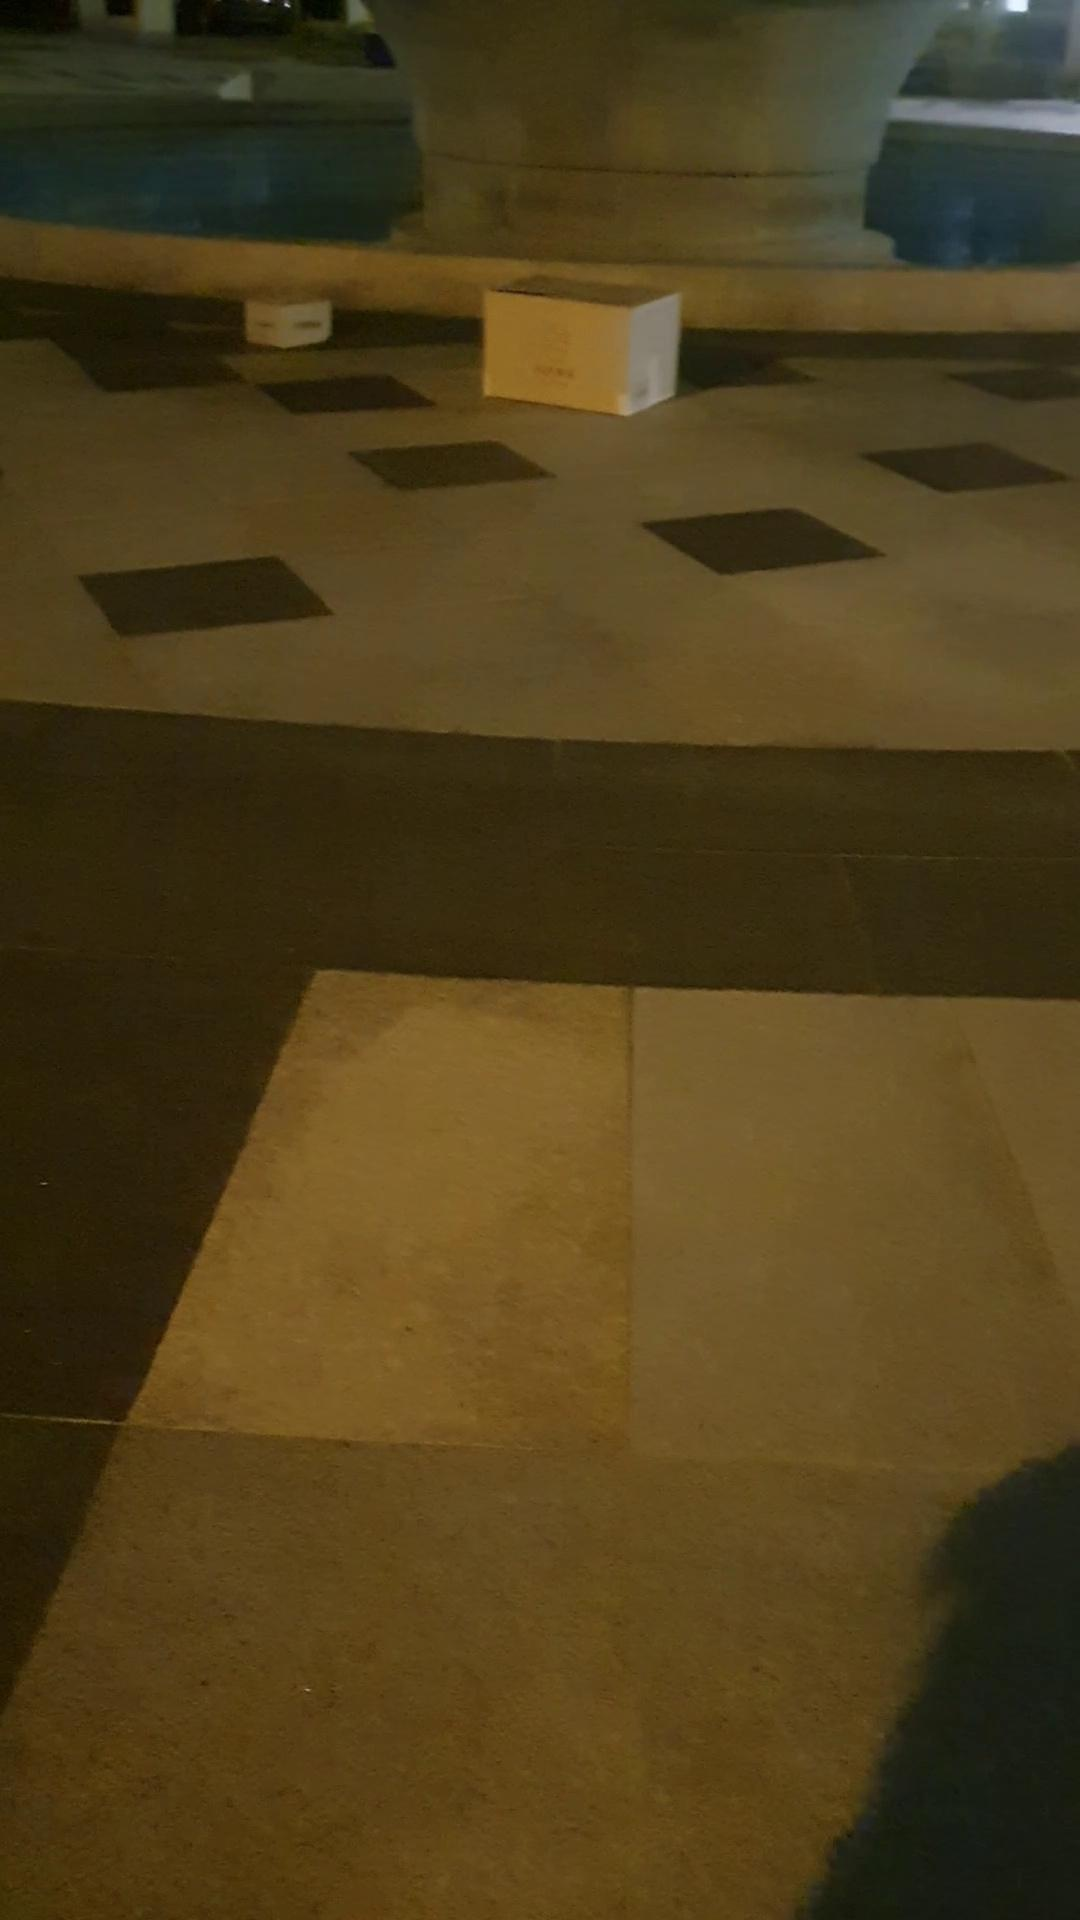Box: (487, 270, 690, 417), (228, 270, 338, 349)
